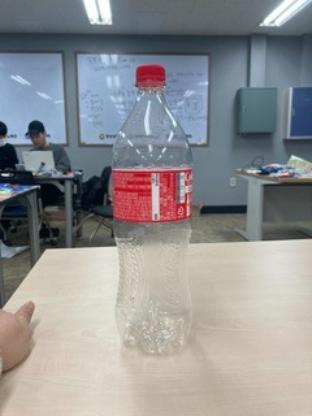Plastic Bottle: (109, 60, 196, 360)
